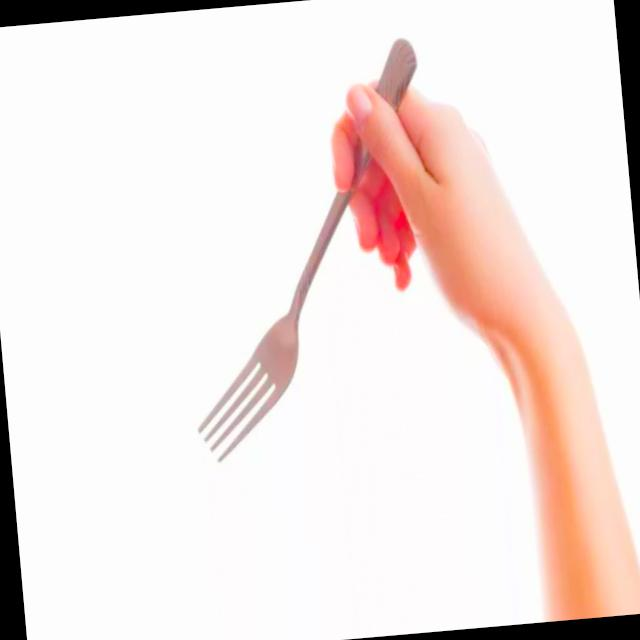fork: (165, 35, 452, 466)
